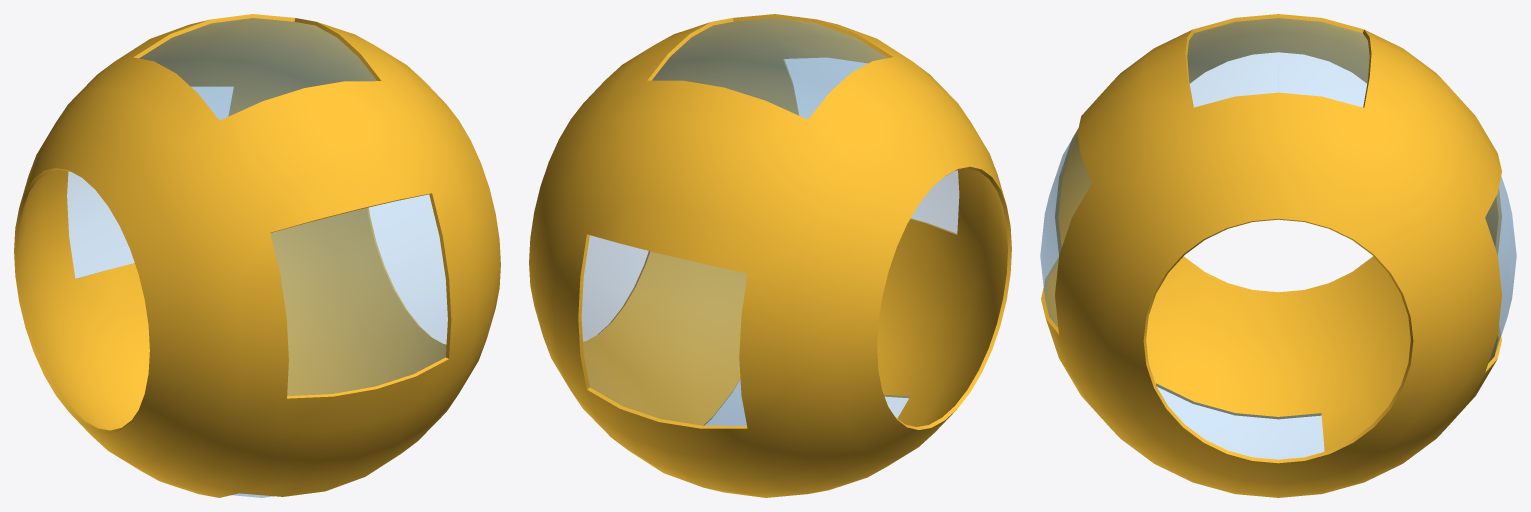
Rendered from bolaEntrada.FBX.
The picture shows the model from 3 angles, left to right: view 1: azimuth 30°, elevation 25°; view 2: azimuth 150°, elevation 25°; view 3: azimuth 270°, elevation 25°; orthographic projection.
Visible parts, largest first — view 1: Sphere001, Object001; view 2: Sphere001, Object001; view 3: Sphere001, Object001.
Part boxes in pixels (x1=…): Sphere001: x1=14, y1=14, x2=500, y2=497; Object001: x1=67, y1=18, x2=447, y2=497; Sphere001: x1=529, y1=14, x2=1011, y2=497; Object001: x1=582, y1=18, x2=958, y2=425; Sphere001: x1=1041, y1=14, x2=1501, y2=497; Object001: x1=1040, y1=18, x2=1516, y2=459.
Size of the model in its own units: 1037 by 1229 by 1229.
